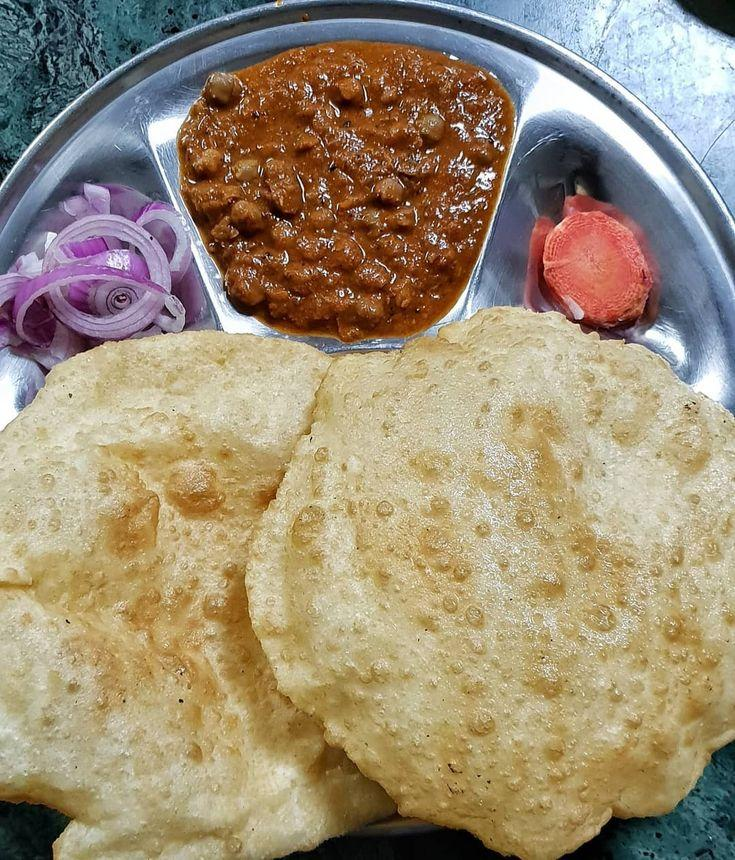chole: (166, 53, 489, 323)
puri: (20, 377, 735, 805)
salad: (6, 209, 193, 352), (538, 191, 653, 338)
